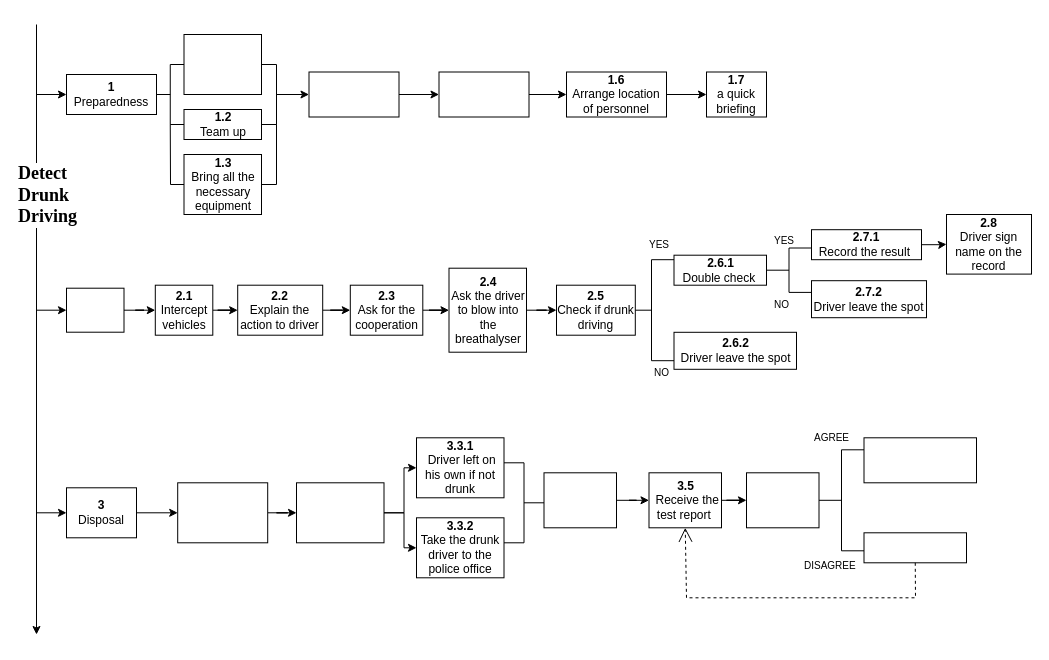
This 1049x660 diagram has some shape labels left out. Each missing label, with the centre of its shape:
"1.1 Check the inspection spot" goes at pixel 222 64.
"1.4 Drive to the inspection spot" goes at pixel 353 94.
"1.5 Set up the security settings" goes at pixel 483 94.
"2 Primary Inspection" goes at pixel 95 309.
"3.1 Drive the drunk driver to the hospital" goes at pixel 222 512.
"3.2 Take two blood samples (driver's)" goes at pixel 340 512.
"3.4 Check blood alcohol level" goes at pixel 579 500.
"3.5 Send the report to the parties" goes at pixel 782 500.
"3.6.1 Punishment in accordance with law" goes at pixel 919 460.
"3.6.2 Recheck" goes at pixel 914 547.
